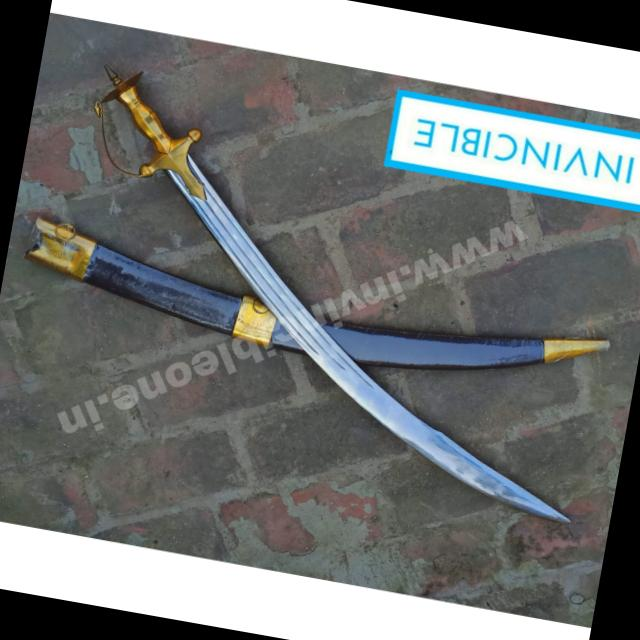Weapon: (32, 60, 640, 533)
